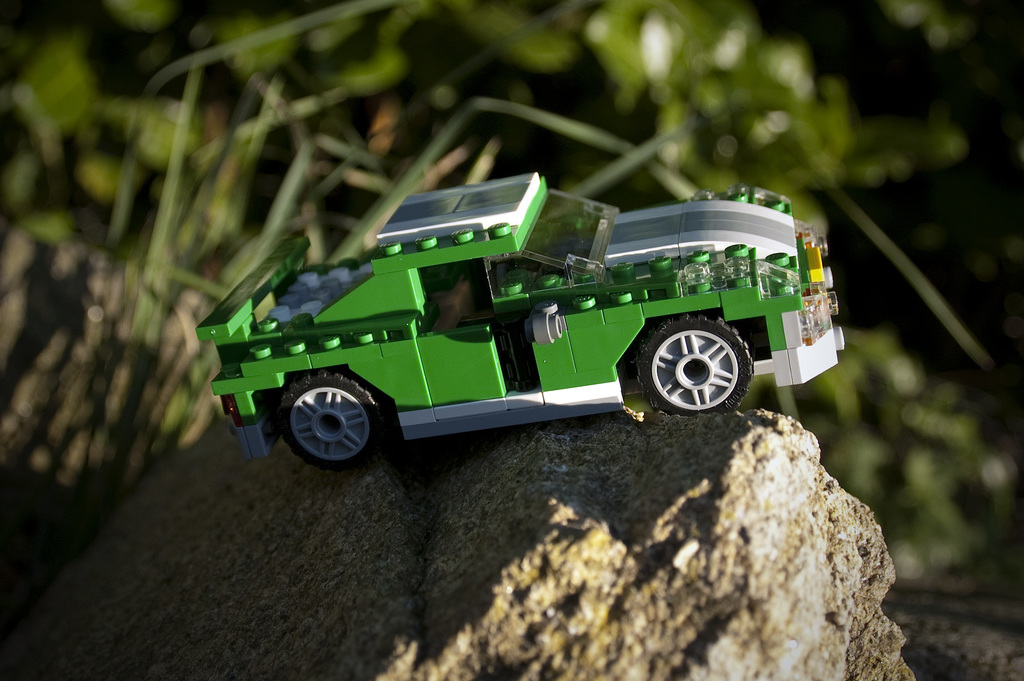Car: (190, 165, 853, 471)
